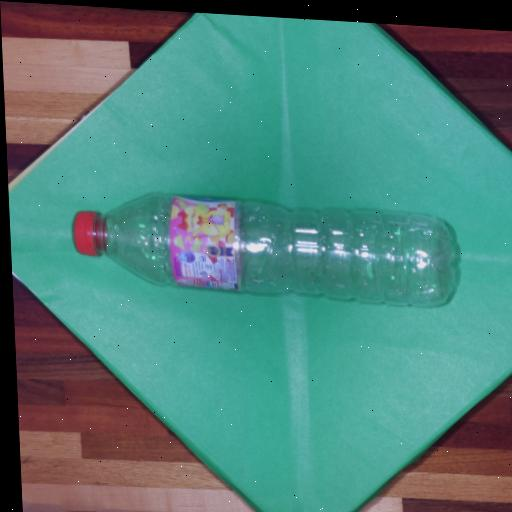bottle: (58, 181, 490, 312)
